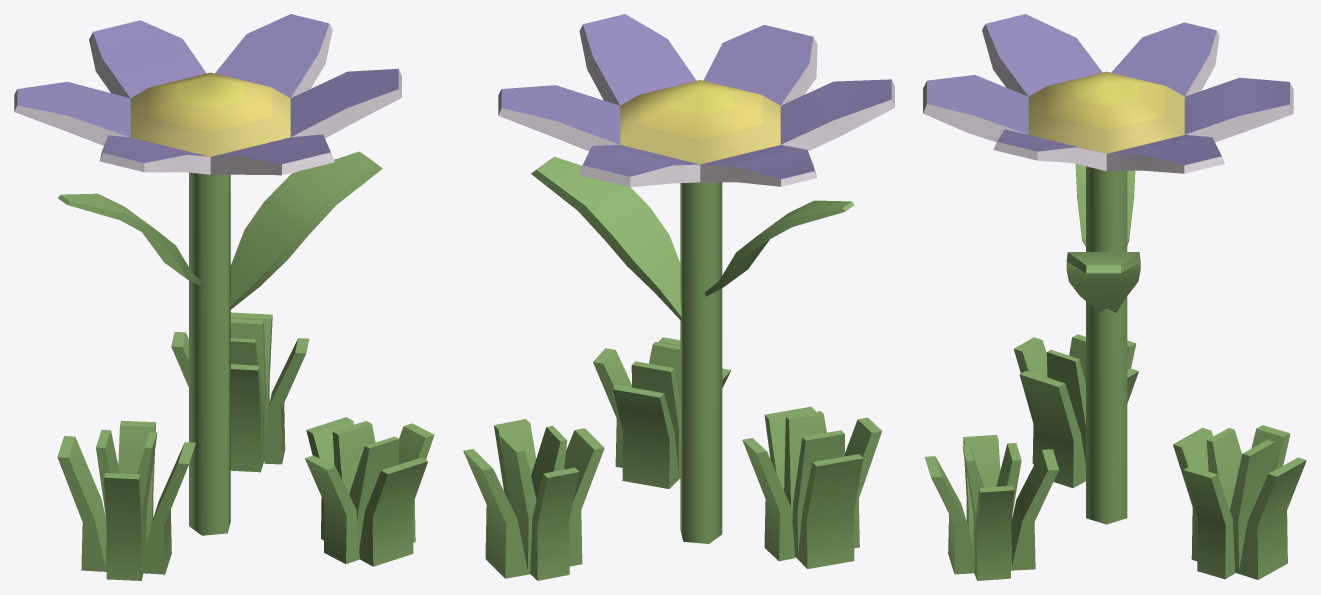
File: flower with some grass.fbx
3 renders of one model, left to right at view 1: azimuth 30°, elevation 25°; view 2: azimuth 150°, elevation 25°; view 3: azimuth 270°, elevation 25°, orthographic. The views are drawn at different scales.
Parts seen in each view (by area): view 1: pCube12, pCube10, pCube9, pCube11; view 2: pCube12, pCube9, pCube11, pCube10; view 3: pCube12, pCube11, pCube10, pCube9.
Boxes of the visible parts, x1,y1,x2,y2 form: pCube12: [14, 14, 401, 535]; pCube10: [305, 417, 434, 566]; pCube9: [57, 420, 195, 580]; pCube11: [171, 312, 309, 472]; pCube12: [498, 14, 894, 543]; pCube9: [742, 406, 881, 568]; pCube11: [463, 419, 604, 580]; pCube10: [593, 337, 731, 488]; pCube12: [923, 14, 1293, 524]; pCube11: [1173, 425, 1306, 579]; pCube10: [925, 434, 1058, 580]; pCube9: [1013, 334, 1138, 487].
Size of the model in its own units: 91.3 by 122 by 97.26.
